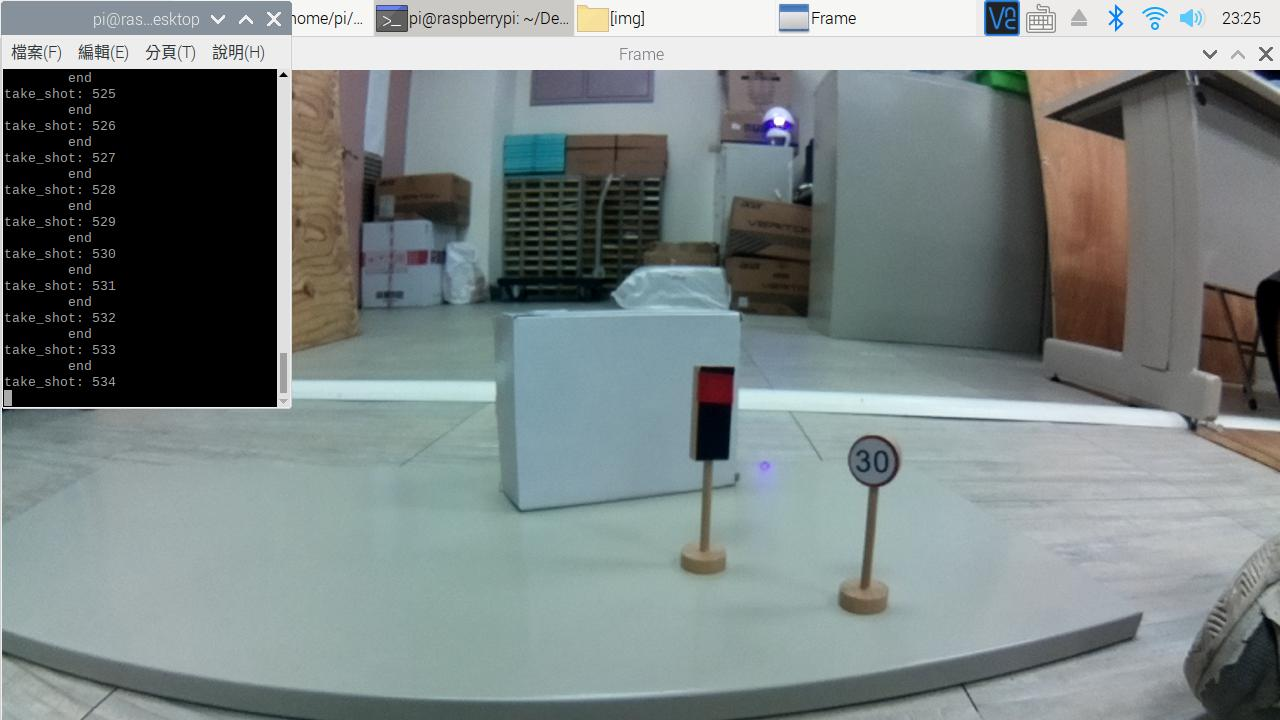Red: (683, 349, 742, 473)
Speed30: (843, 426, 914, 499)
